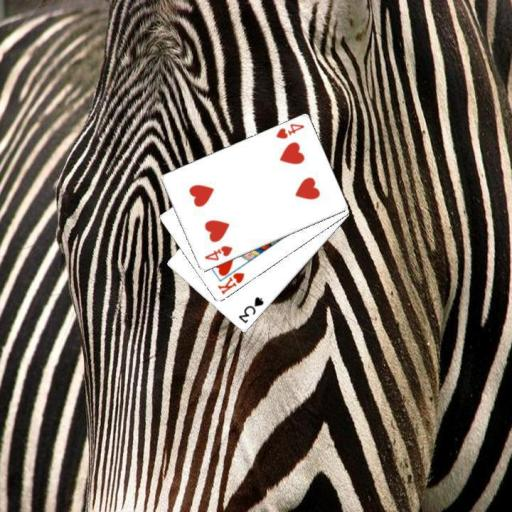card-corner: (236, 294, 266, 325), (214, 270, 246, 296), (272, 121, 306, 141), (201, 242, 234, 262)
